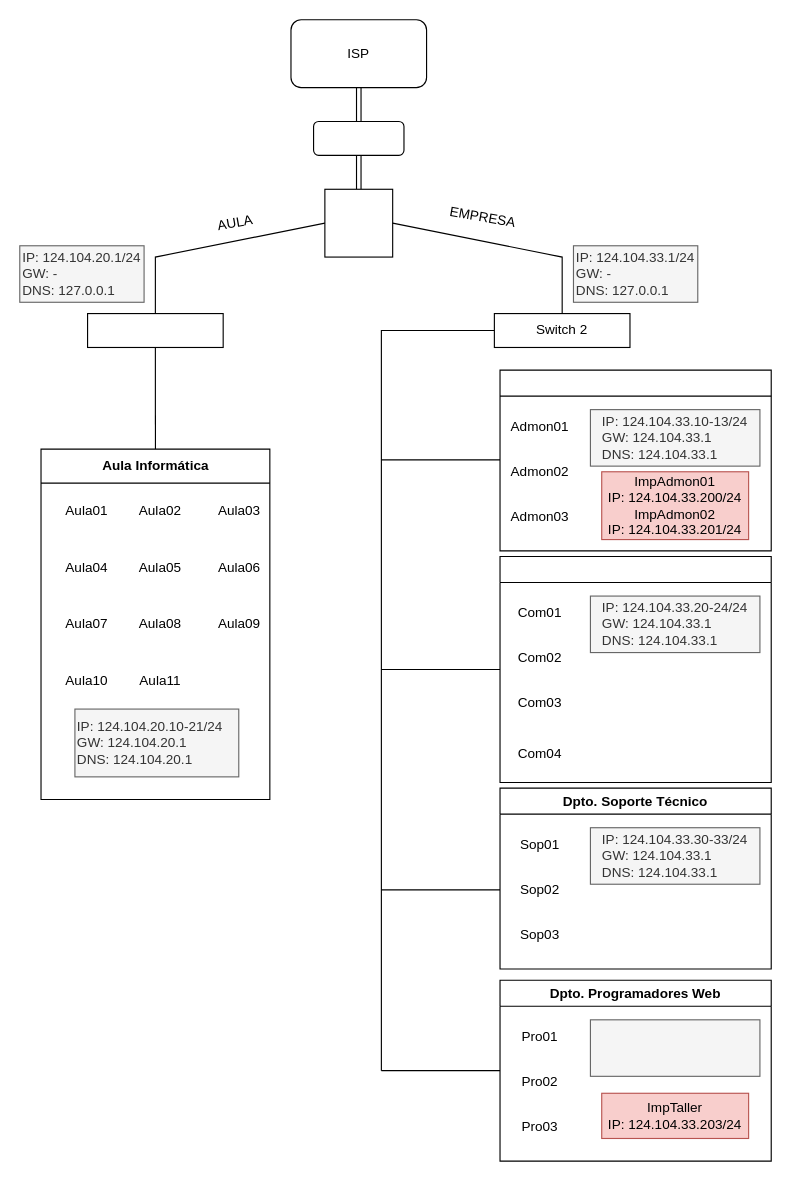
Image size: 791x1181. Some labels were removed from this diagram. The box of each missing label's shape, as (x1, y1, x2, y2) in pixels:
Administración: (499, 369, 771, 551)
Dpto. Comeracial: (499, 555, 771, 783)
IP: 124.104.33.40-43/24 GW: 124.104.33.1 DNS: 124.104.33.1: (589, 1019, 760, 1076)
Router: (312, 120, 404, 155)
Servidor: (324, 188, 393, 257)
Switch 1: (86, 312, 223, 347)
